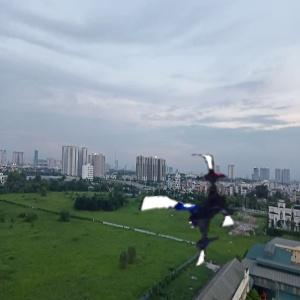drone: (130, 152, 252, 274)
